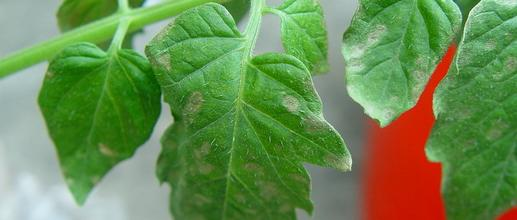Tomato mold leaf: (135, 8, 350, 220), (31, 45, 167, 208), (417, 0, 517, 220), (341, 0, 462, 134)
